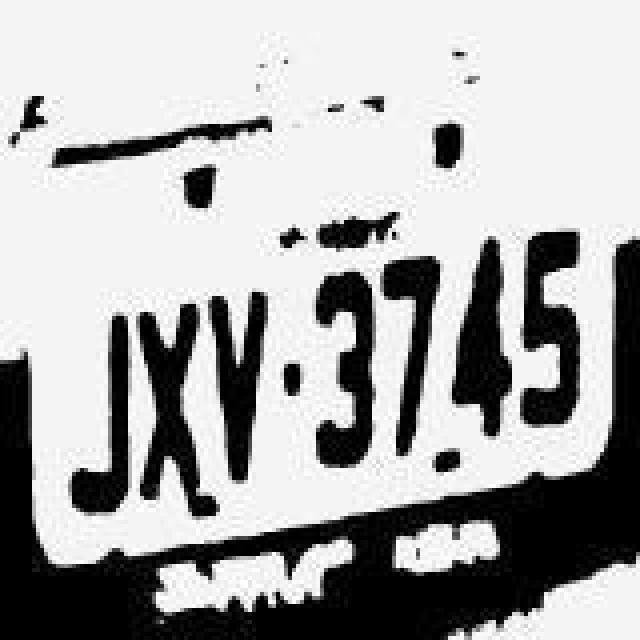3: (308, 260, 380, 484)
4: (450, 214, 518, 450)
5: (518, 222, 586, 458)
7: (380, 250, 444, 470)
J: (64, 284, 136, 516)
V: (210, 274, 278, 494)
X: (136, 282, 200, 510)
